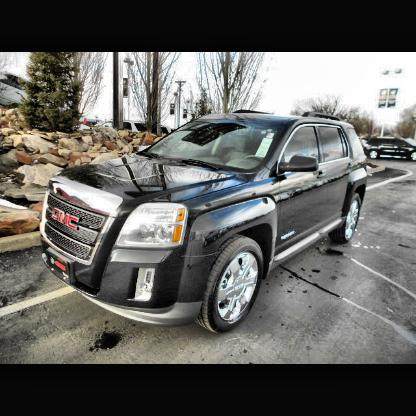GMC Terrain SUV 2012: (38, 110, 370, 337)
